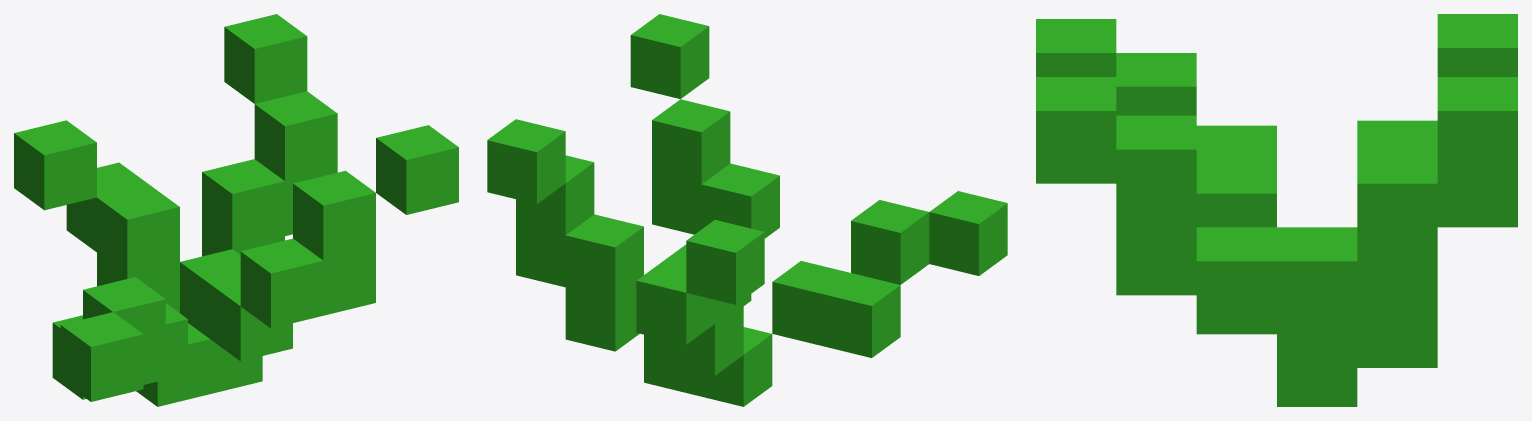
Rendered from Grass1.obj.
3 renders of one model, left to right at view 1: azimuth 30°, elevation 25°; view 2: azimuth 150°, elevation 25°; view 3: azimuth 270°, elevation 25°, orthographic. The views are drawn at different scales.
Bounding box in the file's own units: 7 × 5 × 6.
1 material, 1 textured.
